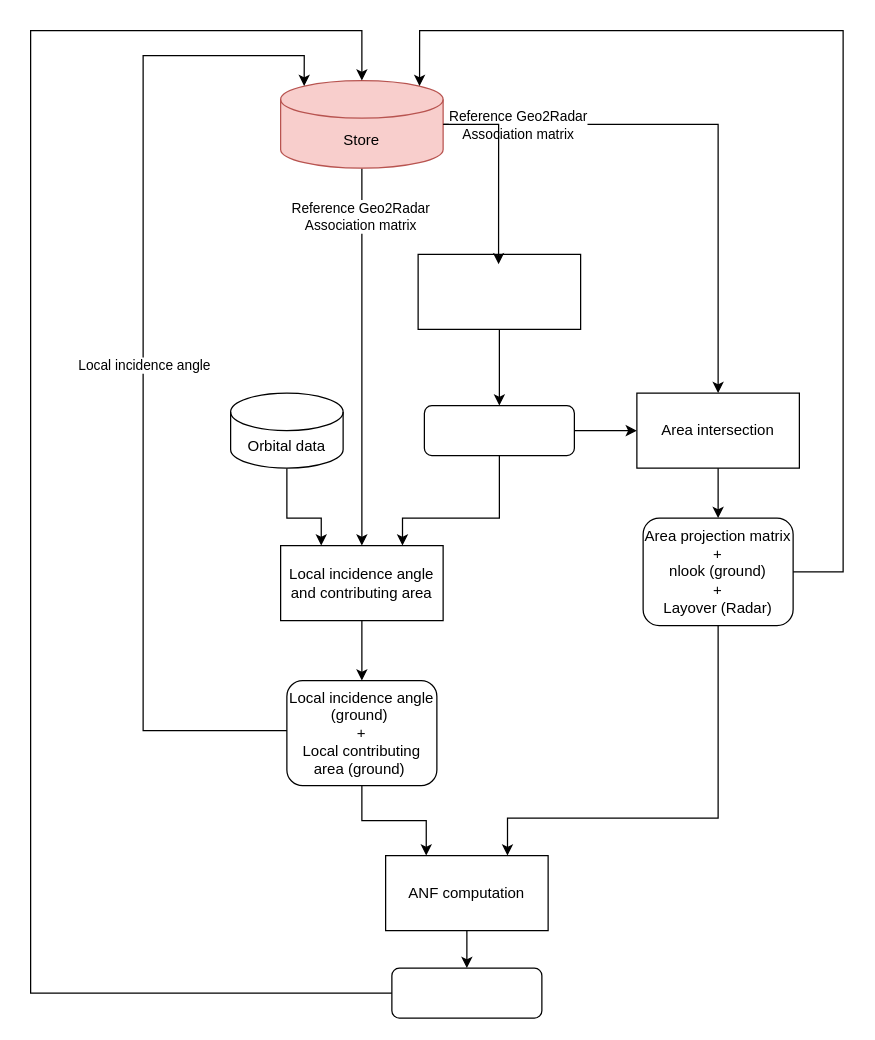
Image size: 875x1040. Some labels were removed from this diagram. The box of each missing label's shape, as (x1, y1, x2, y2) in pixels:
ANF: (391, 967, 542, 1018)
Triangle facets: (423, 404, 574, 456)
Triangular Irregular network (TIN): (417, 253, 581, 329)
